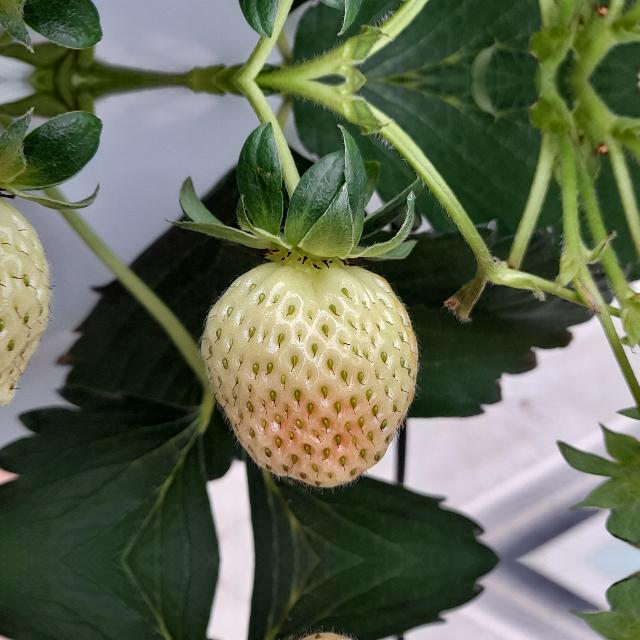Health_50: (200, 257, 418, 487)
